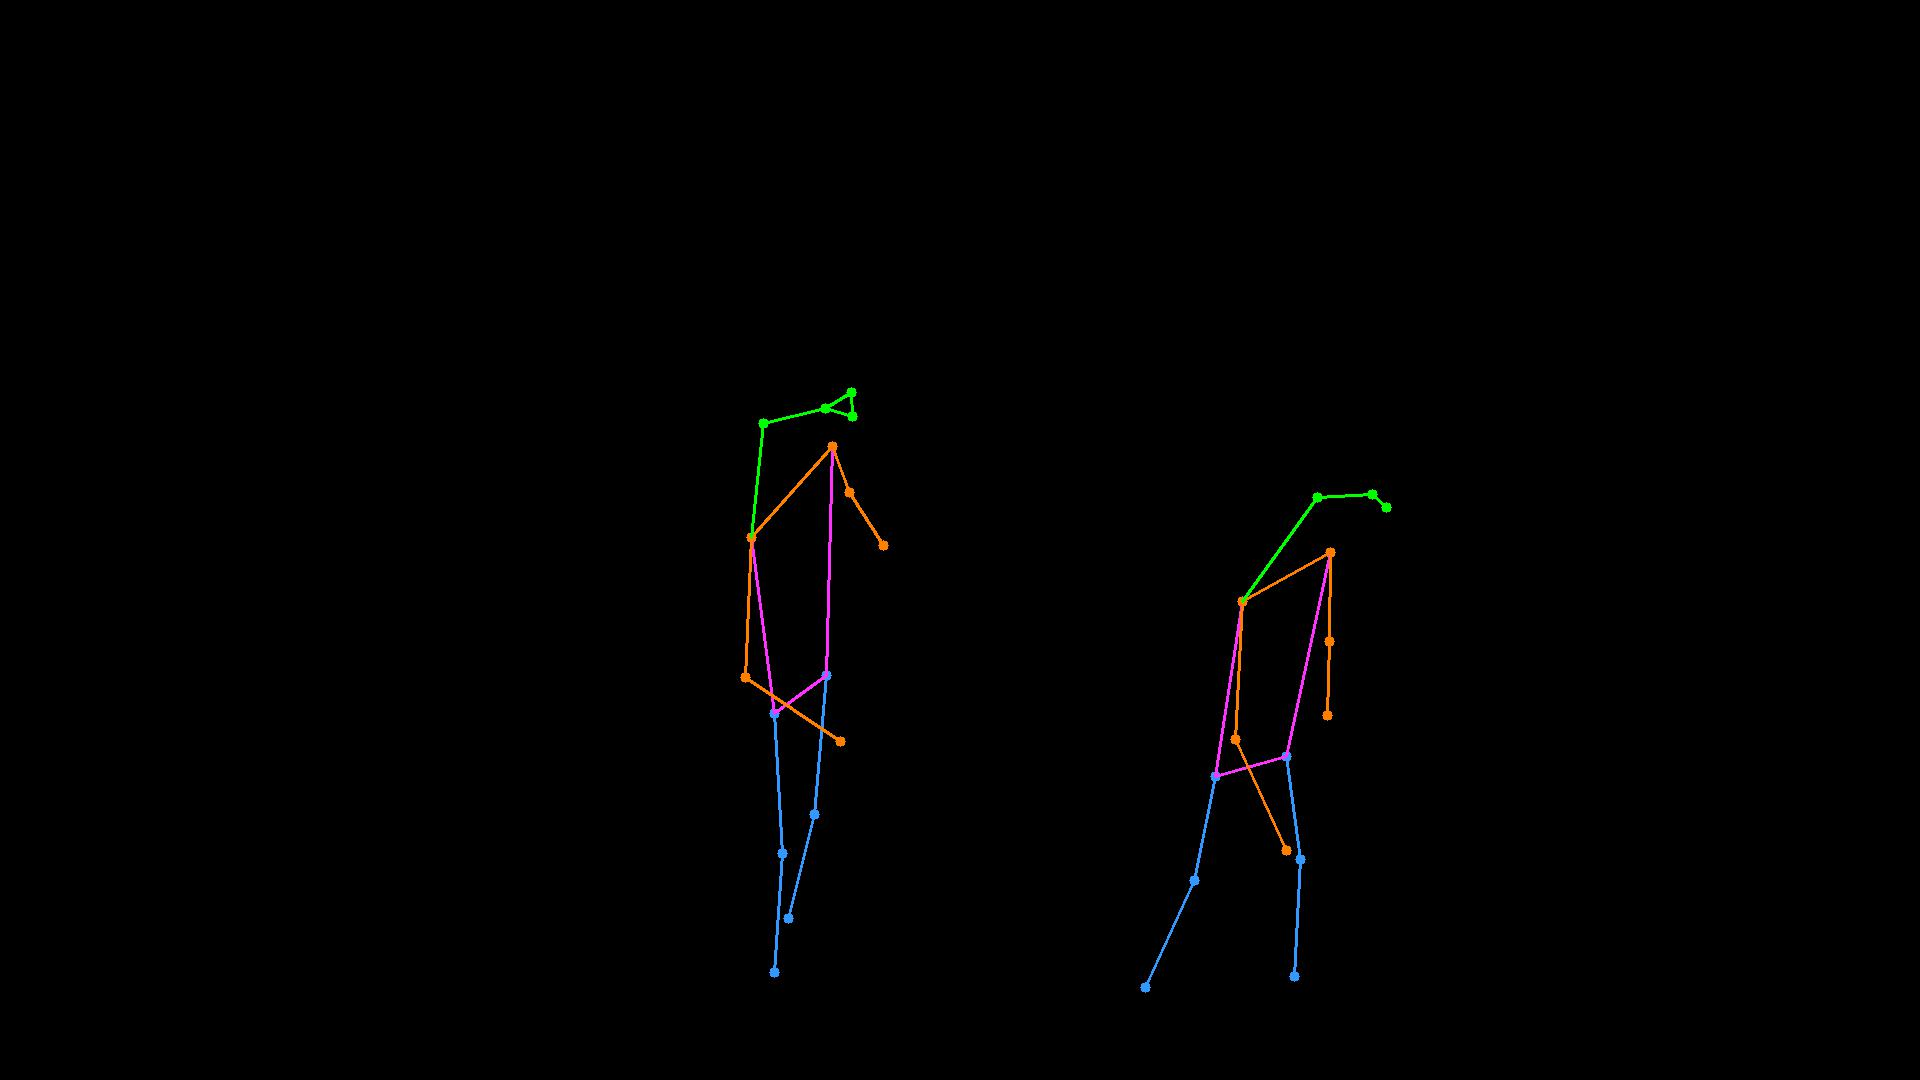normal: (1120, 440, 1408, 1011), (705, 371, 899, 992)
